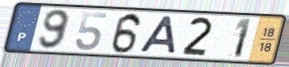1: (233, 17, 254, 61)
2: (181, 16, 213, 58)
5: (74, 11, 109, 52)
6: (110, 11, 144, 55)
9: (37, 9, 71, 51)
A: (138, 14, 178, 55)
